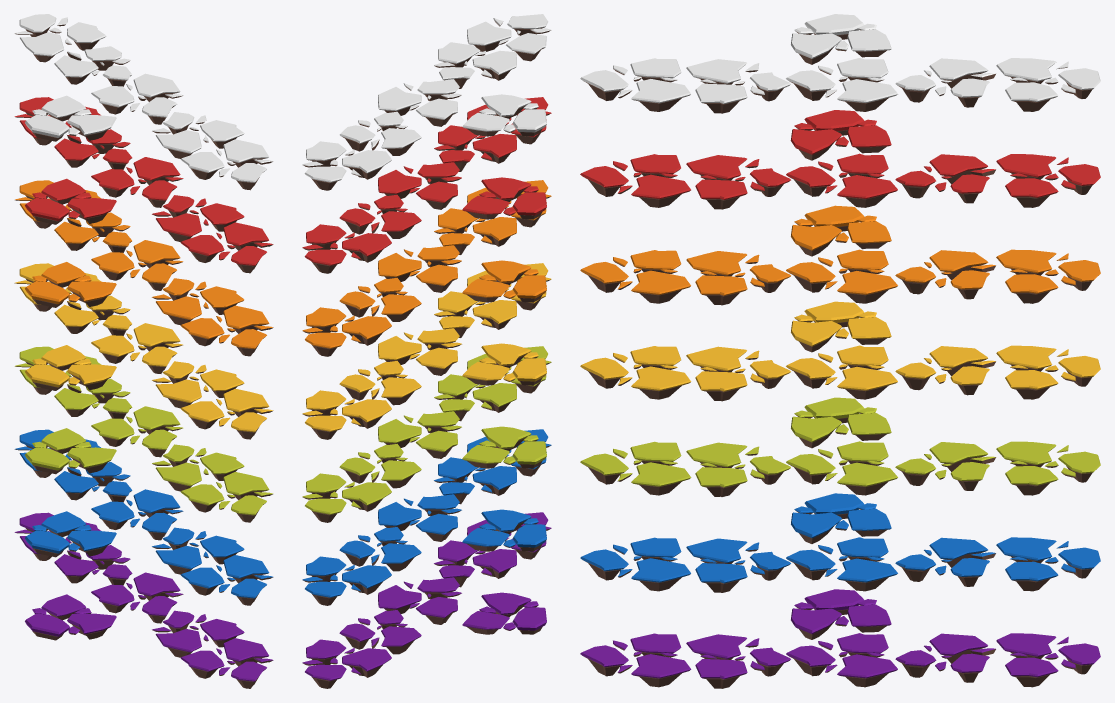
File: FallingPlatforms.fbx
The picture shows the model from 3 angles, left to right: view 1: azimuth 30°, elevation 25°; view 2: azimuth 150°, elevation 25°; view 3: azimuth 270°, elevation 25°; orthographic projection. The views are drawn at different scales.
Parts seen in each view (by area): view 1: FallingPlatform_10x2m_White, FallingPlatform_10x2m_Green, FallingPlatform_10x2m_Yellow, FallingPlatform_10x2m_Purple, FallingPlatform_10x2m_Red, FallingPlatform_10x2m_Blue, FallingPlatform_10x2m_Orange, FallingPlatform_2x2m_Green, FallingPlatform_2x2m_Yellow, FallingPlatform_2x2m_Purple, FallingPlatform_2x2m_Orange, FallingPlatform_2x2m_Red (+2 smaller); view 2: FallingPlatform_10x2m_White, FallingPlatform_10x2m_Red, FallingPlatform_10x2m_Orange, FallingPlatform_10x2m_Yellow, FallingPlatform_10x2m_Purple, FallingPlatform_10x2m_Green, FallingPlatform_10x2m_Blue, FallingPlatform_2x2m_Red, FallingPlatform_2x2m_White, FallingPlatform_2x2m_Green, FallingPlatform_2x2m_Orange, FallingPlatform_2x2m_Purple (+2 smaller); view 3: FallingPlatform_10x2m_Green, FallingPlatform_10x2m_Blue, FallingPlatform_10x2m_Purple, FallingPlatform_10x2m_Yellow, FallingPlatform_10x2m_Orange, FallingPlatform_10x2m_White, FallingPlatform_10x2m_Red, FallingPlatform_2x2m_Green, FallingPlatform_2x2m_Yellow, FallingPlatform_2x2m_Purple, FallingPlatform_2x2m_White, FallingPlatform_2x2m_Blue (+2 smaller).
Boxes of the visible parts, <box> form: FallingPlatform_10x2m_White: <box>14,14,273,190</box>; FallingPlatform_10x2m_Green: <box>14,346,273,522</box>; FallingPlatform_10x2m_Yellow: <box>14,263,273,439</box>; FallingPlatform_10x2m_Purple: <box>14,512,273,688</box>; FallingPlatform_10x2m_Red: <box>14,97,273,273</box>; FallingPlatform_10x2m_Blue: <box>14,429,273,605</box>; FallingPlatform_10x2m_Orange: <box>15,180,273,356</box>; FallingPlatform_2x2m_Green: <box>25,428,116,474</box>; FallingPlatform_2x2m_Yellow: <box>25,345,116,390</box>; FallingPlatform_2x2m_Purple: <box>25,594,116,640</box>; FallingPlatform_2x2m_Orange: <box>25,262,116,307</box>; FallingPlatform_2x2m_Red: <box>25,178,116,224</box>; FallingPlatform_10x2m_White: <box>302,14,551,190</box>; FallingPlatform_10x2m_Red: <box>302,97,551,273</box>; FallingPlatform_10x2m_Orange: <box>302,180,551,356</box>; FallingPlatform_10x2m_Yellow: <box>302,263,551,439</box>; FallingPlatform_10x2m_Purple: <box>302,512,551,688</box>; FallingPlatform_10x2m_Green: <box>302,346,551,522</box>; FallingPlatform_10x2m_Blue: <box>302,429,551,605</box>; FallingPlatform_2x2m_Red: <box>462,177,546,219</box>; FallingPlatform_2x2m_White: <box>462,94,546,136</box>; FallingPlatform_2x2m_Green: <box>462,426,546,468</box>; FallingPlatform_2x2m_Orange: <box>462,260,546,302</box>; FallingPlatform_2x2m_Purple: <box>462,592,546,634</box>; FallingPlatform_10x2m_Green: <box>580,441,1100,496</box>; FallingPlatform_10x2m_Blue: <box>580,537,1100,592</box>; FallingPlatform_10x2m_Purple: <box>580,633,1100,688</box>; FallingPlatform_10x2m_Yellow: <box>580,345,1100,401</box>; FallingPlatform_10x2m_Orange: <box>580,249,1100,305</box>; FallingPlatform_10x2m_White: <box>580,58,1100,113</box>; FallingPlatform_10x2m_Red: <box>580,153,1100,209</box>; FallingPlatform_2x2m_Green: <box>791,397,891,448</box>; FallingPlatform_2x2m_Yellow: <box>791,301,891,352</box>; FallingPlatform_2x2m_Purple: <box>791,589,891,639</box>; FallingPlatform_2x2m_White: <box>791,14,891,64</box>; FallingPlatform_2x2m_Blue: <box>791,493,891,543</box>.
Size of the model in its own units: 3.96 by 9.85 by 12.38.
